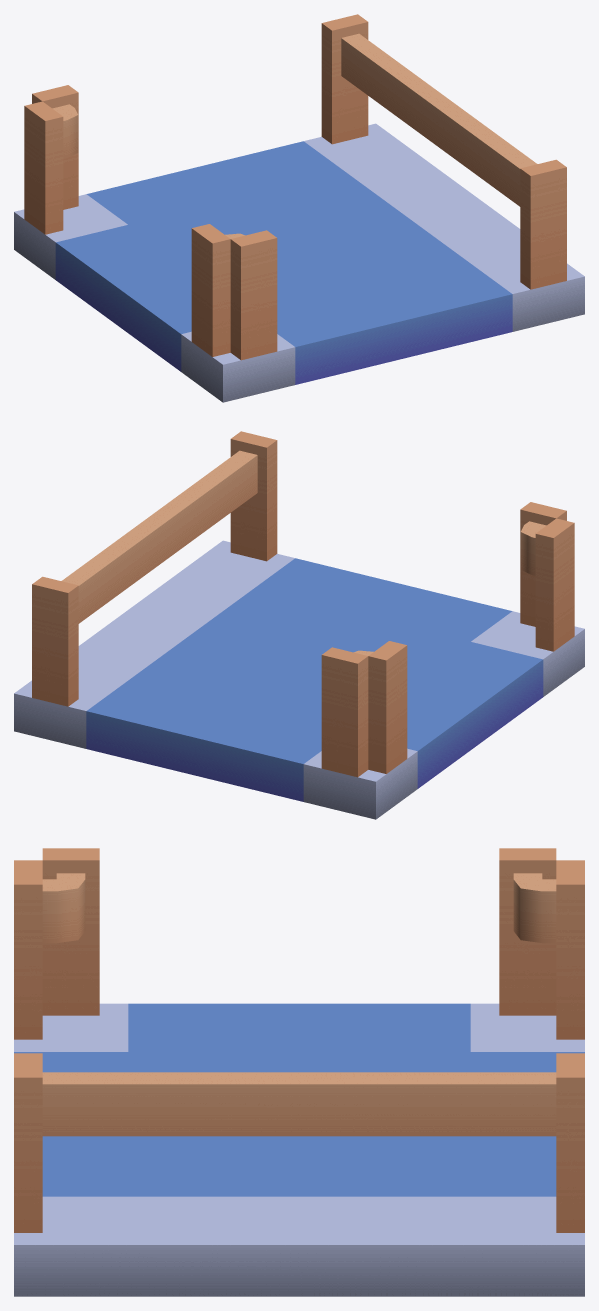
File: queue-split.glb
3 renders of one model, top to bottom at view 1: azimuth 30°, elevation 25°; view 2: azimuth 150°, elevation 25°; view 3: azimuth 270°, elevation 25°, orthographic. The views are drawn at different scales.
Visible parts, largest first — view 1: queue-split; view 2: queue-split; view 3: queue-split.
Boxes of the visible parts, left/top/right/bottom form: queue-split: left=14, top=14, right=584, bottom=402; queue-split: left=14, top=431, right=584, bottom=819; queue-split: left=14, top=848, right=584, bottom=1296.
Bounding box in the file's own units: 3 × 1.2 × 3.
Materials: 1 (1 with a texture image).
